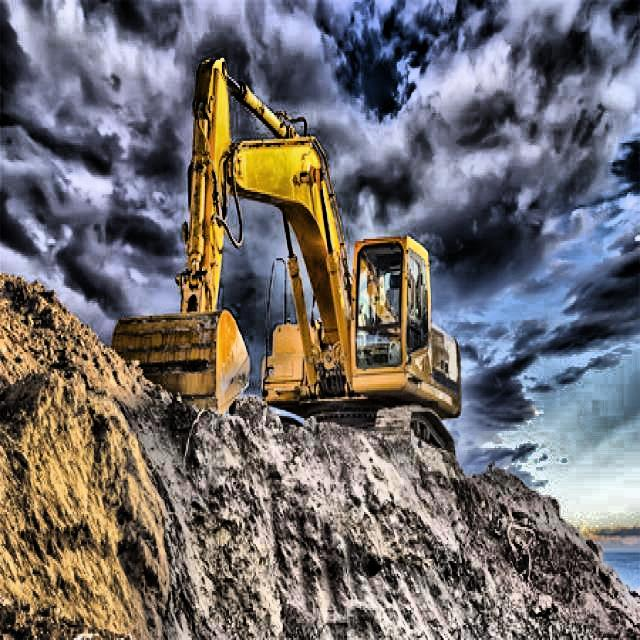excavator: (107, 54, 473, 462)
